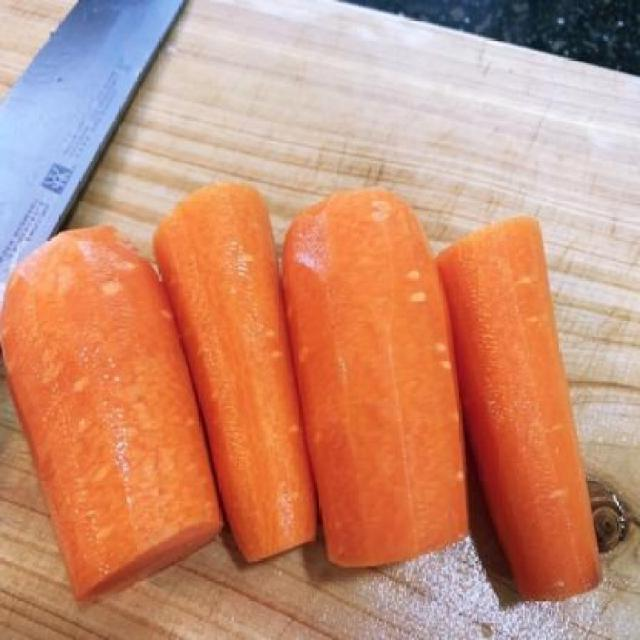carrot: (1, 219, 229, 603), (283, 186, 470, 574), (151, 177, 322, 574), (439, 209, 602, 613)
